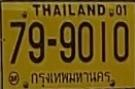0: (77, 21, 93, 62), (113, 21, 128, 61)
1: (102, 21, 106, 62)
7: (9, 21, 25, 63)
9: (28, 21, 44, 63), (59, 21, 75, 62)
BKK: (29, 70, 112, 87)
